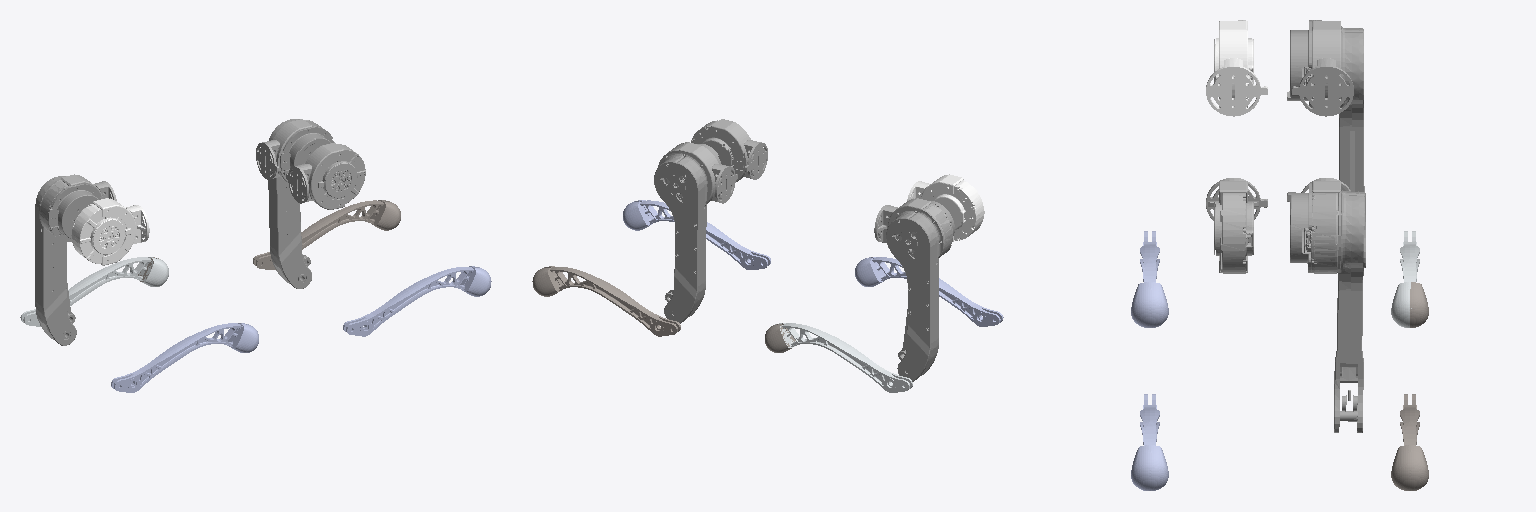
robot.urdf — mei:
<?xml version="1.0" encoding="utf-8"?>
<!-- This URDF was automatically created by SolidWorks to URDF Exporter! Originally created by [author] ([email redacted]) 
     Commit Version: 1.6.0-4-g7f85cfe  Build Version: 1.6.7995.38578
     For more information, please see http://wiki.ros.org/sw_urdf_exporter -->
<robot
  name="mei">

  <mujoco>
    <compiler
    meshdir="../meshes"
    balanceinertia="true"
    discardvisual="false"/>
  </mujoco>


  <link
    name="base">
    <inertial>
      <origin
        xyz="0.00757956 -0.00020000 -0.00254703"
        rpy="0 0 0" />
      <mass
        value="4.87475244" />
      <inertia
        ixx="0.01839234"
        ixy="-0.00000757"
        ixz="0.00029559"
        iyy="0.05151497"
        iyz="-0.00000248"
        izz="0.06165645" />
    </inertial>
    <visual>
      <origin
        xyz="0 0 0"
        rpy="0 0 0" />
      <geometry>
        <mesh
          filename="../meshes/base.STL" />
      </geometry>
      <material
        name="">
        <color
          rgba="0.898039215686275 0.917647058823529 0.929411764705882 1" />
      </material>
    </visual>
    <collision>
      <origin
        xyz="0 0 0"
        rpy="0 0 0" />
      <geometry>
        <box size="0.272 0.214 0.116" />
      </geometry>
    </collision>
  </link>




  <link
    name="FL_hip">
    <inertial>
      <origin
        xyz="0.05950709 0.00087962 -0.00008074"
        rpy="0 0 0" />
      <mass
        value="0.64420378" />
      <inertia
        ixx="0.00043929"
        ixy="-0.00003659"
        ixz="0.00000254"
        iyy="0.00317400"
        iyz="-0.00000065"
        izz="0.00285293" />
    </inertial>
    <visual>
      <origin
        xyz="0 0 0"
        rpy="0 0 0" />
      <geometry>
        <mesh
          filename="../meshes/FL_hip.STL" />
      </geometry>
      <material
        name="">
        <color
          rgba="0.752941176470588 0.752941176470588 0.752941176470588 1" />
      </material>
    </visual>
    <collision>
      <origin rpy="1.5707963267948966 0 0" xyz="0.06676 0.08 0" />
      <geometry>
        <cylinder length="0.04" radius="0.046" />
      </geometry>
    </collision>

  </link>
  <joint
    name="FL_hip_joint"
    type="revolute">
    <origin
      xyz="0.1403 0.0497999999999999 0"
      rpy="0 0 0" />
    <parent
      link="base" />
    <child
      link="FL_hip" />
    <axis
      xyz="1 0 0" />
    <limit
      lower="-1.0036"
      upper="1.0036"
      effort="23.7"
      velocity="30" />
  </joint>

  <link
    name="FL_thigh">
    <inertial>
      <origin
        xyz="-0.00211808 0.04705244 -0.02176453"
        rpy="0 0 0" />
      <mass
        value="0.95855680" />
      <inertia
        ixx="0.00588428"
        ixy="0.00013952"
        ixz="-0.00022559"
        iyy="0.00387777"
        iyz="0.00144261"
        izz="0.00296068" />
    </inertial>
    <visual>
      <origin
        xyz="0 0 0"
        rpy="0 0 0" />
      <geometry>
        <mesh
          filename="../meshes/FL_thigh.STL" />
      </geometry>
      <material
        name="">
        <color
          rgba="0.698039215686274 0.698039215686274 0.698039215686274 1" />
      </material>
    </visual>
    <collision>
      <origin rpy="0 1.5707963267948966 0" xyz="-0.019 0.0691 -0.1" />
      <geometry>
        <box size="0.1 0.022 0.038" />
      </geometry>
    </collision>
  </link>
  <joint
    name="FL_thigh_joint"
    type="revolute">
    <origin
      xyz="0.0667562717871182 0.0201539382152824 0"
      rpy="0 0 0" />
    <parent
      link="FL_hip" />
    <child
      link="FL_thigh" />
    <axis
      xyz="0 1 0" />
    <limit
      lower="-0.56723"
      upper="4.9306"
      effort="23.7"
      velocity="30" />
  </joint>


  <link
    name="FL_calf">
    <inertial>
      <origin
        xyz=" 0.01455678 0.00000000 -0.12125055"
        rpy="0 0 0" />
      <mass
        value="0.14550479" />
      <inertia
        ixx="0.00316254"
        ixy="0.00000000"
        ixz="0.00030561"
        iyy="0.00321674"
        iyz="0.00000000"
        izz="0.00006635" />
    </inertial>
    <visual>
      <origin
        xyz="0 0 0"
        rpy="0 0 0" />
      <geometry>
        <mesh
          filename="../meshes/FL_calf.STL" />
      </geometry>
      <material
        name="">
        <color
          rgba="0.686274509803922 0.658823529411765 0.63921568627451 1" />
      </material>
    </visual>
    <collision>
      <origin rpy="0 -0.3 0" xyz="0.009 0 -0.028" />
      <geometry>
        <cylinder length="0.068" radius="0.01" />
      </geometry>
    </collision>
    <collision>
      <origin rpy="0 -0.27 0" xyz="0.029 0 -0.1" />
      <geometry>
        <cylinder length="0.038" radius="0.01" />
      </geometry>
    </collision>
    <collision>
      <origin rpy="0 0.11 0" xyz="0.031 0 -0.16" />
      <geometry>
        <cylinder length="0.04" radius="0.0125" />
      </geometry>
    </collision>

  </link>
  <joint
    name="FL_calf_joint"
    type="revolute">
    <origin
      xyz="0 0.0694 -0.220000111808529"
      rpy="0 0 0" />
    <parent
      link="FL_thigh" />
    <child
      link="FL_calf" />
    <axis
      xyz="0 1 0" />
    <limit
      lower="-2.618"
      upper="-0.69813"
      effort="35.55"
      velocity="30" />
  </joint>
  <link
    name="FL_foot">
    <inertial>
      <origin
        xyz="0 0 0"
        rpy="0 0 0" />
      <mass
        value="0.04" /> 
      <inertia
        ixx="9.6e-06"
        ixy="0"
        ixz="0"
        iyy="9.6e-06"
        iyz="0"
        izz="9.6e-06" />
    </inertial>
    <visual>
      <origin
        xyz="0 0 0"
        rpy="0 0 0" />
      <geometry>
        <mesh
          filename="../meshes/FL_foot.STL" />
      </geometry>
      <material
        name="">
        <color
          rgba="0.686274509803922 0.658823529411765 0.63921568627451 1" />
      </material>
    </visual>
    <collision>
      <origin rpy="0 0 0" xyz="0.016 0 0.015" />
      <geometry>
        <sphere  radius="0.02149" />
      </geometry>
    </collision>
  </link>
  <joint
    name="FL_foot_joint"
    type="fixed" dont_collapse="true">  
    <origin
      xyz="-0.0053877 0 -0.21902"
      rpy="0 0 0" />
    <parent
      link="FL_calf" />
    <child
      link="FL_foot" />
    <axis
      xyz="0 0 0" />
  </joint>



  <link
    name="FR_hip">
    <inertial>
      <origin
        xyz="0.05950709 0.00087962 0.00008074"
        rpy="0 0 0" />
      <mass
        value="0.64420378" />
      <inertia
        ixx="0.00043929"
        ixy="0.00003659"
        ixz="-0.00000254"
        iyy="0.00317400"
        iyz="-0.00000065"
        izz="0.00285293" />
    </inertial>
    <visual>
      <origin
        xyz="0 0 0"
        rpy="0 0 0" />
      <geometry>
        <mesh
          filename="../meshes/FR_hip.STL" />
      </geometry>
      <material
        name="">
        <color
          rgba="0.752941176470588 0.752941176470588 0.752941176470588 1" />
      </material>
    </visual>
    <collision>
      <origin rpy="1.5707963267948966 0 0" xyz="0.06676 -0.08 0" />
      <geometry>
        <cylinder length="0.04" radius="0.046" />
      </geometry>
    </collision>
  </link>
  <joint
    name="FR_hip_joint"
    type="revolute">
    <origin
      xyz="0.1403 -0.0502 0"
      rpy="0 0 0" />
    <parent
      link="base" />
    <child
      link="FR_hip" />
    <axis
      xyz="1 0 0" />
    <limit
      lower="-1.0036"
      upper="1.0036"
      effort="23.7"
      velocity="30" />
  </joint>
  <link
    name="FR_thigh">
    <inertial>
      <origin
        xyz="-0.00211808 -0.04705244 -0.02176453"
        rpy="0 0 0" />
      <mass
        value="0.95855680" />
      <inertia
        ixx="0.00588428"
        ixy="-0.00013952"
        ixz="-0.00022559"
        iyy="0.00387777"
        iyz="-0.00144261"
        izz="0.00296068" />
    </inertial>
    <visual>
      <origin
        xyz="0 0 0"
        rpy="0 0 0" />
      <geometry>
        <mesh
          filename="../meshes/FR_thigh.STL" />
      </geometry>
      <material
        name="">
        <color
          rgba="0.792156862745098 0.819607843137255 0.933333333333333 1" />
      </material>
    </visual>
    <collision>
      <origin rpy="0 1.5707963267948966 0" xyz="-0.019 -0.0691 -0.1" />
      <geometry>
        <box size="0.1 0.022 0.038" />
      </geometry>
    </collision>
  </link>
  <joint
    name="FR_thigh_joint"
    type="revolute">
    <origin
      xyz="0.0667562717871182 -0.0201539382152822 0"
      rpy="0 0 0" />
    <parent
      link="FR_hip" />
    <child
      link="FR_thigh" />
    <axis
      xyz="0 1 0" />
    <limit
      lower="-0.56723"
      upper="4.9306"
      effort="23.7"
      velocity="30" />
  </joint>
  <link
    name="FR_calf">
    <inertial>
      <origin
        xyz=" 0.01455678 0.00000000 -0.12125055"
        rpy="0 0 0" />
      <mass
        value="0.14550479" />
      <inertia
        ixx="0.00316254"
        ixy="0.00000000"
        ixz="0.00030561"
        iyy="0.00321674"
        iyz="0.00000000"
        izz="0.00006635" />
    </inertial>
    <visual>
      <origin
        xyz="0 0 0"
        rpy="0 0 0" />
      <geometry>
        <mesh
          filename="../meshes/FR_calf.STL" />
      </geometry>
      <material
        name="">
        <color
          rgba="0.792156862745098 0.819607843137255 0.933333333333333 1" />
      </material>
    </visual>
    <collision>
      <origin rpy="0 -0.3 0" xyz="0.009 0 -0.028" />
      <geometry>
        <cylinder length="0.068" radius="0.01" />
      </geometry>
    </collision>
    <collision>
      <origin rpy="0 -0.27 0" xyz="0.029 0 -0.1" />
      <geometry>
        <cylinder length="0.038" radius="0.01" />
      </geometry>
    </collision>
    <collision>
      <origin rpy="0 0.11 0" xyz="0.031 0 -0.16" />
      <geometry>
        <cylinder length="0.04" radius="0.0125" />
      </geometry>
    </collision>
  </link>
  <joint
    name="FR_calf_joint"
    type="revolute">
    <origin
      xyz="0 -0.0694 -0.220000111808525"
      rpy="0 0 0" />
    <parent
      link="FR_thigh" />
    <child
      link="FR_calf" />
    <axis
      xyz="0 1 0" />
    <limit
      lower="-2.618"
      upper="-0.69813"
      effort="35.55"
      velocity="20" />
  </joint>
  <link
    name="FR_foot">
    <inertial>
      <origin
        xyz="0 0 0"
        rpy="0 0 0" />
      <mass
        value="0.04" />
      <inertia
        ixx="9.6e-06"
        ixy="0"
        ixz="0"
        iyy="9.6e-06"
        iyz="0"
        izz="9.6e-06" />
    </inertial>
    <visual>
      <origin
        xyz="0 0 0"
        rpy="0 0 0" />
      <geometry>
        <mesh
          filename="../meshes/FR_foot.STL" />
      </geometry>
      <material
        name="">
        <color
          rgba="0.792156862745098 0.819607843137255 0.933333333333333 1" />
      </material>
    </visual>
    <collision>
      <origin rpy="0 0 0" xyz="0.016 0 0.015" />
      <geometry>
        <sphere  radius="0.02149" />
      </geometry>
    </collision>
  </link>
  <joint
    name="FR_foot_joint"
    type="fixed" dont_collapse="true">
    <origin
      xyz="-0.00538770972802349 0 -0.219020635804649"
      rpy="0 0 0" />
    <parent
      link="FR_calf" />
    <child
      link="FR_foot" />
    <axis
      xyz="0 0 0" />
  </joint>



  
  <link
    name="RL_hip">
    <inertial>
      <origin
        xyz="-0.05950709 0.00087962 0.00008074"
        rpy="0 0 0" />
      <mass
        value="0.64420378" />
      <inertia
        ixx="0.00043929"
        ixy="0.00003659"
        ixz="0.00000254"
        iyy="0.00317400"
        iyz="0.00000065"
        izz="0.00285293" />
    </inertial>
    <visual>
      <origin
        xyz="0 0 0"
        rpy="0 0 0" />
      <geometry>
        <mesh
          filename="../meshes/RL_hip.STL" />
      </geometry>
      <material
        name="">
        <color
          rgba="0.752941176470588 0.752941176470588 0.752941176470588 1" />
      </material>
    </visual>
    <collision>
      <origin rpy="1.5707963267948966 0 0" xyz="-0.06676 0.08 0" />
      <geometry>
        <cylinder length="0.04" radius="0.046" />
      </geometry>
    </collision>
  </link>
  <joint
    name="RL_hip_joint"
    type="revolute">
    <origin
      xyz="-0.1403 0.0498 0"
      rpy="0 0 0" />
    <parent
      link="base" />
    <child
      link="RL_hip" />
    <axis
      xyz="1 0 0" />
    <limit
      lower="-1.0036"
      upper="1.0036"
      effort="23.7"
      velocity="30" />
  </joint>
  <link
    name="RL_thigh">
    <inertial>
      <origin
        xyz="-0.00211808 0.04705244 -0.02176453"
        rpy="0 0 0" />
      <mass
        value="0.95855680" />
      <inertia
        ixx="0.00588428"
        ixy="0.00013952"
        ixz="-0.00022559"
        iyy="0.00387777"
        iyz="0.00144261"
        izz="0.00296068" />
    </inertial>
    <visual>
      <origin
        xyz="0 0 0"
        rpy="0 0 0" />
      <geometry>
        <mesh
          filename="../meshes/RL_thigh.STL" />
      </geometry>
      <material
        name="">
        <color
          rgba="0.698039215686274 0.698039215686274 0.698039215686274 1" />
      </material>
    </visual>
    <collision>
      <origin rpy="0 1.5707963267948966 0" xyz="-0.019 0.0691 -0.1" />
      <geometry>
        <box size="0.1 0.022 0.038" />
      </geometry>
    </collision>
  </link>
  <joint
    name="RL_thigh_joint"
    type="revolute">
    <origin
      xyz="-0.0667562717871183 0.0201539382152815 0"
      rpy="0 0 0" />
    <parent
      link="RL_hip" />
    <child
      link="RL_thigh" />
    <axis
      xyz="0 1 0" />
    <limit
      lower="-0.56723"
      upper="4.9306"
      effort="23.7"
      velocity="30" />
  </joint>
  <link
    name="RL_calf">
    <inertial>
      <origin
        xyz=" 0.01455678 0.00000000 -0.12125055"
        rpy="0 0 0" />
      <mass
        value="0.14550479" />
      <inertia
        ixx="0.00316254"
        ixy="0.00000000"
        ixz="0.00030561"
        iyy="0.00321674"
        iyz="0.00000000"
        izz="0.00006635" />
    </inertial>
    <visual>
      <origin
        xyz="0 0 0"
        rpy="0 0 0" />
      <geometry>
        <mesh
          filename="../meshes/RL_calf.STL" />
      </geometry>
      <material
        name="">
        <color
          rgba="0.898039215686275 0.917647058823529 0.929411764705882 1" />
      </material>
    </visual>
    <collision>
      <origin rpy="0 -0.3 0" xyz="0.009 0 -0.028" />
      <geometry>
        <cylinder length="0.068" radius="0.01" />
      </geometry>
    </collision>
    <collision>
      <origin rpy="0 -0.27 0" xyz="0.029 0 -0.1" />
      <geometry>
        <cylinder length="0.038" radius="0.01" />
      </geometry>
    </collision>
    <collision>
      <origin rpy="0 0.11 0" xyz="0.031 0 -0.16" />
      <geometry>
        <cylinder length="0.04" radius="0.0125" />
      </geometry>
    </collision>
  </link>
  <joint
    name="RL_calf_joint"
    type="revolute">
    <origin
      xyz="0 0.0694 -0.220000111808528"
      rpy="0 0 0" />
    <parent
      link="RL_thigh" />
    <child
      link="RL_calf" />
    <axis
      xyz="0 1 0" />
    <limit
      lower="-2.618"
      upper="-0.69813"
      effort="35.55"
      velocity="20" />
  </joint>
  <link
    name="RL_foot">
    <inertial>
      <origin
        xyz="0 0 0"
        rpy="0 0 0" />
      <mass
        value="0.04" />
      <inertia
        ixx="9.6e-06"
        ixy="0"
        ixz="0"
        iyy="9.6e-06"
        iyz="0"
        izz="9.6e-06" />
    </inertial>
    <visual>
      <origin
        xyz="0 0 0"
        rpy="0 0 0" />
      <geometry>
        <mesh
          filename="../meshes/RL_foot.STL" />
      </geometry>
      <material
        name="">
        <color
          rgba="0.686274509803922 0.658823529411765 0.63921568627451 1" />
      </material>
    </visual>
    <collision>
      <origin rpy="0 0 0" xyz="0.016 0 0.015" />
      <geometry>
        <sphere  radius="0.02149" />
      </geometry>
    </collision>
  </link>
  <joint
    name="RL_foot_joint"
    type="fixed" dont_collapse="true">
    <origin
      xyz="-0.00538770972802359 0 -0.219020635804649"
      rpy="0 0 0" />
    <parent
      link="RL_calf" />
    <child
      link="RL_foot" />
    <axis
      xyz="0 0 0" />
  </joint>




  <link
    name="RR_hip">
    <inertial>
      <origin
        xyz="-0.05950709 -0.00087962 -0.00008074"
        rpy="0 0 0" />
      <mass
        value="0.64420378" />
      <inertia
        ixx="0.00043929"
        ixy="-0.00003659"
        ixz="-0.00000254"
        iyy="0.00317400"
        iyz="0.00000065"
        izz="0.00285293" />
    </inertial>
    <visual>
      <origin
        xyz="0 0 0"
        rpy="0 0 0" />
      <geometry>
        <mesh
          filename="../meshes/RR_hip.STL" />
      </geometry>
      <material
        name="">
        <color
          rgba="1 1 1 1" />
      </material>
    </visual>
    <collision>
      <origin rpy="1.5707963267948966 0 0" xyz="-0.06676 -0.08 0" />
      <geometry>
        <cylinder length="0.04" radius="0.046" />
      </geometry>
    </collision>
  </link>
  <joint
    name="RR_hip_joint"
    type="revolute">
    <origin
      xyz="-0.1403 -0.0501999999999998 0"
      rpy="0 0 0" />
    <parent
      link="base" />
    <child
      link="RR_hip" />
    <axis
      xyz="1 0 0" />
    <limit
      lower="-1.0036"
      upper="1.0036"
      effort="23.7"
      velocity="30" />
  </joint>
  <link
    name="RR_thigh">
    <inertial>
      <origin
        xyz="-0.00211808 -0.04705244 -0.02176453"
        rpy="0 0 0" />
      <mass
        value="0.95855680" />
      <inertia
        ixx="0.00588428"
        ixy="-0.00013952"
        ixz="-0.00022559"
        iyy="0.00387777"
        iyz="-0.00144261"
        izz="0.00296068" />
    </inertial>
    <visual>
      <origin
        xyz="0 0 0"
        rpy="0 0 0" />
      <geometry>
        <mesh
          filename="../meshes/RR_thigh.STL" />
      </geometry>
      <material
        name="">
        <color
          rgba="0.792156862745098 0.819607843137255 0.933333333333333 1" />
      </material>
    </visual>
    <collision>
      <origin rpy="0 1.5707963267948966 0" xyz="-0.019 -0.0691 -0.1" />
      <geometry>
        <box size="0.1 0.022 0.038" />
      </geometry>
    </collision>
  </link>
  <joint
    name="RR_thigh_joint"
    type="revolute">
    <origin
      xyz="-0.0667562717871181 -0.0201539382152824 0"
      rpy="0 0 0" />
    <parent
      link="RR_hip" />
    <child
      link="RR_thigh" />
    <axis
      xyz="0 1 0" />
    <limit
      lower="-0.56723"
      upper="4.9306"
      effort="23.7"
      velocity="30" />
  </joint>
  <link
    name="RR_calf">
    <inertial>
      <origin
        xyz=" 0.01455678 0.00000000 -0.12125055"
        rpy="0 0 0" />
      <mass
        value="0.14550479" />
      <inertia
        ixx="0.00316254"
        ixy="0.00000000"
        ixz="0.00030561"
        iyy="0.00321674"
        iyz="0.00000000"
        izz="0.00006635" />
    </inertial>
    <visual>
      <origin
        xyz="0 0 0"
        rpy="0 0 0" />
      <geometry>
        <mesh
          filename="../meshes/RR_calf.STL" />
      </geometry>
      <material
        name="">
        <color
          rgba="0.792156862745098 0.819607843137255 0.933333333333333 1" />
      </material>
    </visual>
    <collision>
      <origin rpy="0 -0.3 0" xyz="0.009 0 -0.028" />
      <geometry>
        <cylinder length="0.068" radius="0.01" />
      </geometry>
    </collision>
    <collision>
      <origin rpy="0 -0.27 0" xyz="0.029 0 -0.1" />
      <geometry>
        <cylinder length="0.038" radius="0.01" />
      </geometry>
    </collision>
    <collision>
      <origin rpy="0 0.11 0" xyz="0.031 0 -0.16" />
      <geometry>
        <cylinder length="0.04" radius="0.0125" />
      </geometry>
    </collision>
  </link>
  <joint
    name="RR_calf_joint"
    type="revolute">
    <origin
      xyz="0 -0.0694 -0.22"
      rpy="0 0 0" />
    <parent
      link="RR_thigh" />
    <child
      link="RR_calf" />
    <axis
      xyz="0 1 0" />
    <limit
      lower="-2.618"
      upper="-0.69813"
      effort="35.55"
      velocity="20" />
  </joint>
  <link
    name="RR_foot">
    <inertial>
      <origin
        xyz="0 0 0"
        rpy="0 0 0" />
      <mass
        value="0.04" />
      <inertia
        ixx="9.6e-06"
        ixy="0"
        ixz="0"
        iyy="9.6e-06"
        iyz="0"
        izz="9.6e-06" />
    </inertial>
    <visual>
      <origin
        xyz="0 0 0"
        rpy="0 0 0" />
      <geometry>
        <mesh
          filename="../meshes/RR_foot.STL" />
      </geometry>
      <material
        name="">
        <color
          rgba="0.79216 0.81961 0.93333 1" />
      </material>
    </visual>
    <collision>
      <origin rpy="0 0 0" xyz="0.016 0 0.015" />
      <geometry>
        <sphere  radius="0.02149" />
      </geometry>
    </collision>
  </link>
  <joint
    name="RR_foot_joint"
    type="fixed" dont_collapse="true">
    <origin
      xyz="-0.0053877 0 -0.21902"
      rpy="0 0 0" />
    <parent
      link="RR_calf" />
    <child
      link="RR_foot" />
    <axis
      xyz="0 0 0" />
  </joint>
</robot>

--- Render facts (derived) ---
3 views of the same robot in one strip: view 1: azimuth 30°, elevation 25°; view 2: azimuth 150°, elevation 25°; view 3: azimuth 270°, elevation 25° (orthographic).
Robot: mei — 17 links, 16 joints (12 revolute, 4 fixed); root link base; default pose: joints at zero except 4 at the middle of their limits (FL_calf_joint = -1.66, FR_calf_joint = -1.66, RL_calf_joint = -1.66, RR_calf_joint = -1.66).
Links seen in each view (by area): view 1: RL_thigh, FL_thigh, RR_hip, FR_hip, FR_calf, RR_calf, RL_calf, FL_calf, FL_hip, RL_hip, RR_foot, FR_foot; view 2: RL_thigh, FL_thigh, FR_hip, RR_hip, RL_calf, FL_calf, FR_calf, RR_calf, FL_hip, RL_hip, FL_foot, RL_foot; view 3: FL_thigh, RL_thigh, FR_hip, RR_hip, RL_hip, FL_calf, RR_calf, FR_calf, RL_calf, FL_hip, RL_foot, FR_foot.
Boxes of the visible links, <box> form: RL_thigh: <box>35,176,101,345</box>; FL_thigh: <box>268,119,333,288</box>; RR_hip: <box>71,198,149,265</box>; FR_hip: <box>286,142,365,209</box>; FR_calf: <box>343,266,479,336</box>; RR_calf: <box>111,323,258,392</box>; RL_calf: <box>20,257,168,326</box>; FL_calf: <box>253,200,400,269</box>; FL_hip: <box>256,119,312,181</box>; RL_hip: <box>39,174,116,236</box>; RR_foot: <box>228,323,258,352</box>; FR_foot: <box>460,266,491,296</box>; RL_thigh: <box>886,201,954,381</box>; FL_thigh: <box>654,142,720,323</box>; FR_hip: <box>691,119,767,181</box>; RR_hip: <box>907,174,984,241</box>; RL_calf: <box>775,323,912,392</box>; FL_calf: <box>532,266,680,336</box>; FR_calf: <box>623,200,770,269</box>; RR_calf: <box>855,257,1003,326</box>; FL_hip: <box>666,142,737,203</box>; RL_hip: <box>874,198,952,256</box>; FL_foot: <box>533,266,563,296</box>; RL_foot: <box>765,323,795,352</box>; FL_thigh: <box>1287,183,1364,432</box>; RL_thigh: <box>1287,20,1365,267</box>; FR_hip: <box>1206,178,1267,273</box>; RR_hip: <box>1206,20,1267,116</box>; RL_hip: <box>1292,20,1353,116</box>; FL_calf: <box>1391,394,1424,490</box>; RR_calf: <box>1135,231,1168,327</box>; FR_calf: <box>1140,394,1168,490</box>; RL_calf: <box>1391,231,1419,327</box>; FL_hip: <box>1301,178,1350,273</box>; RL_foot: <box>1410,282,1428,327</box>; FR_foot: <box>1131,445,1149,490</box>.
Bounding box of the posed robot: 0.6865 × 0.3196 × 0.288 m (x, y, z).
14 mesh visuals loaded from 17 distinct referenced files (14 binary STL); not drawn: 3 (reference not matched to a file when rendering).
